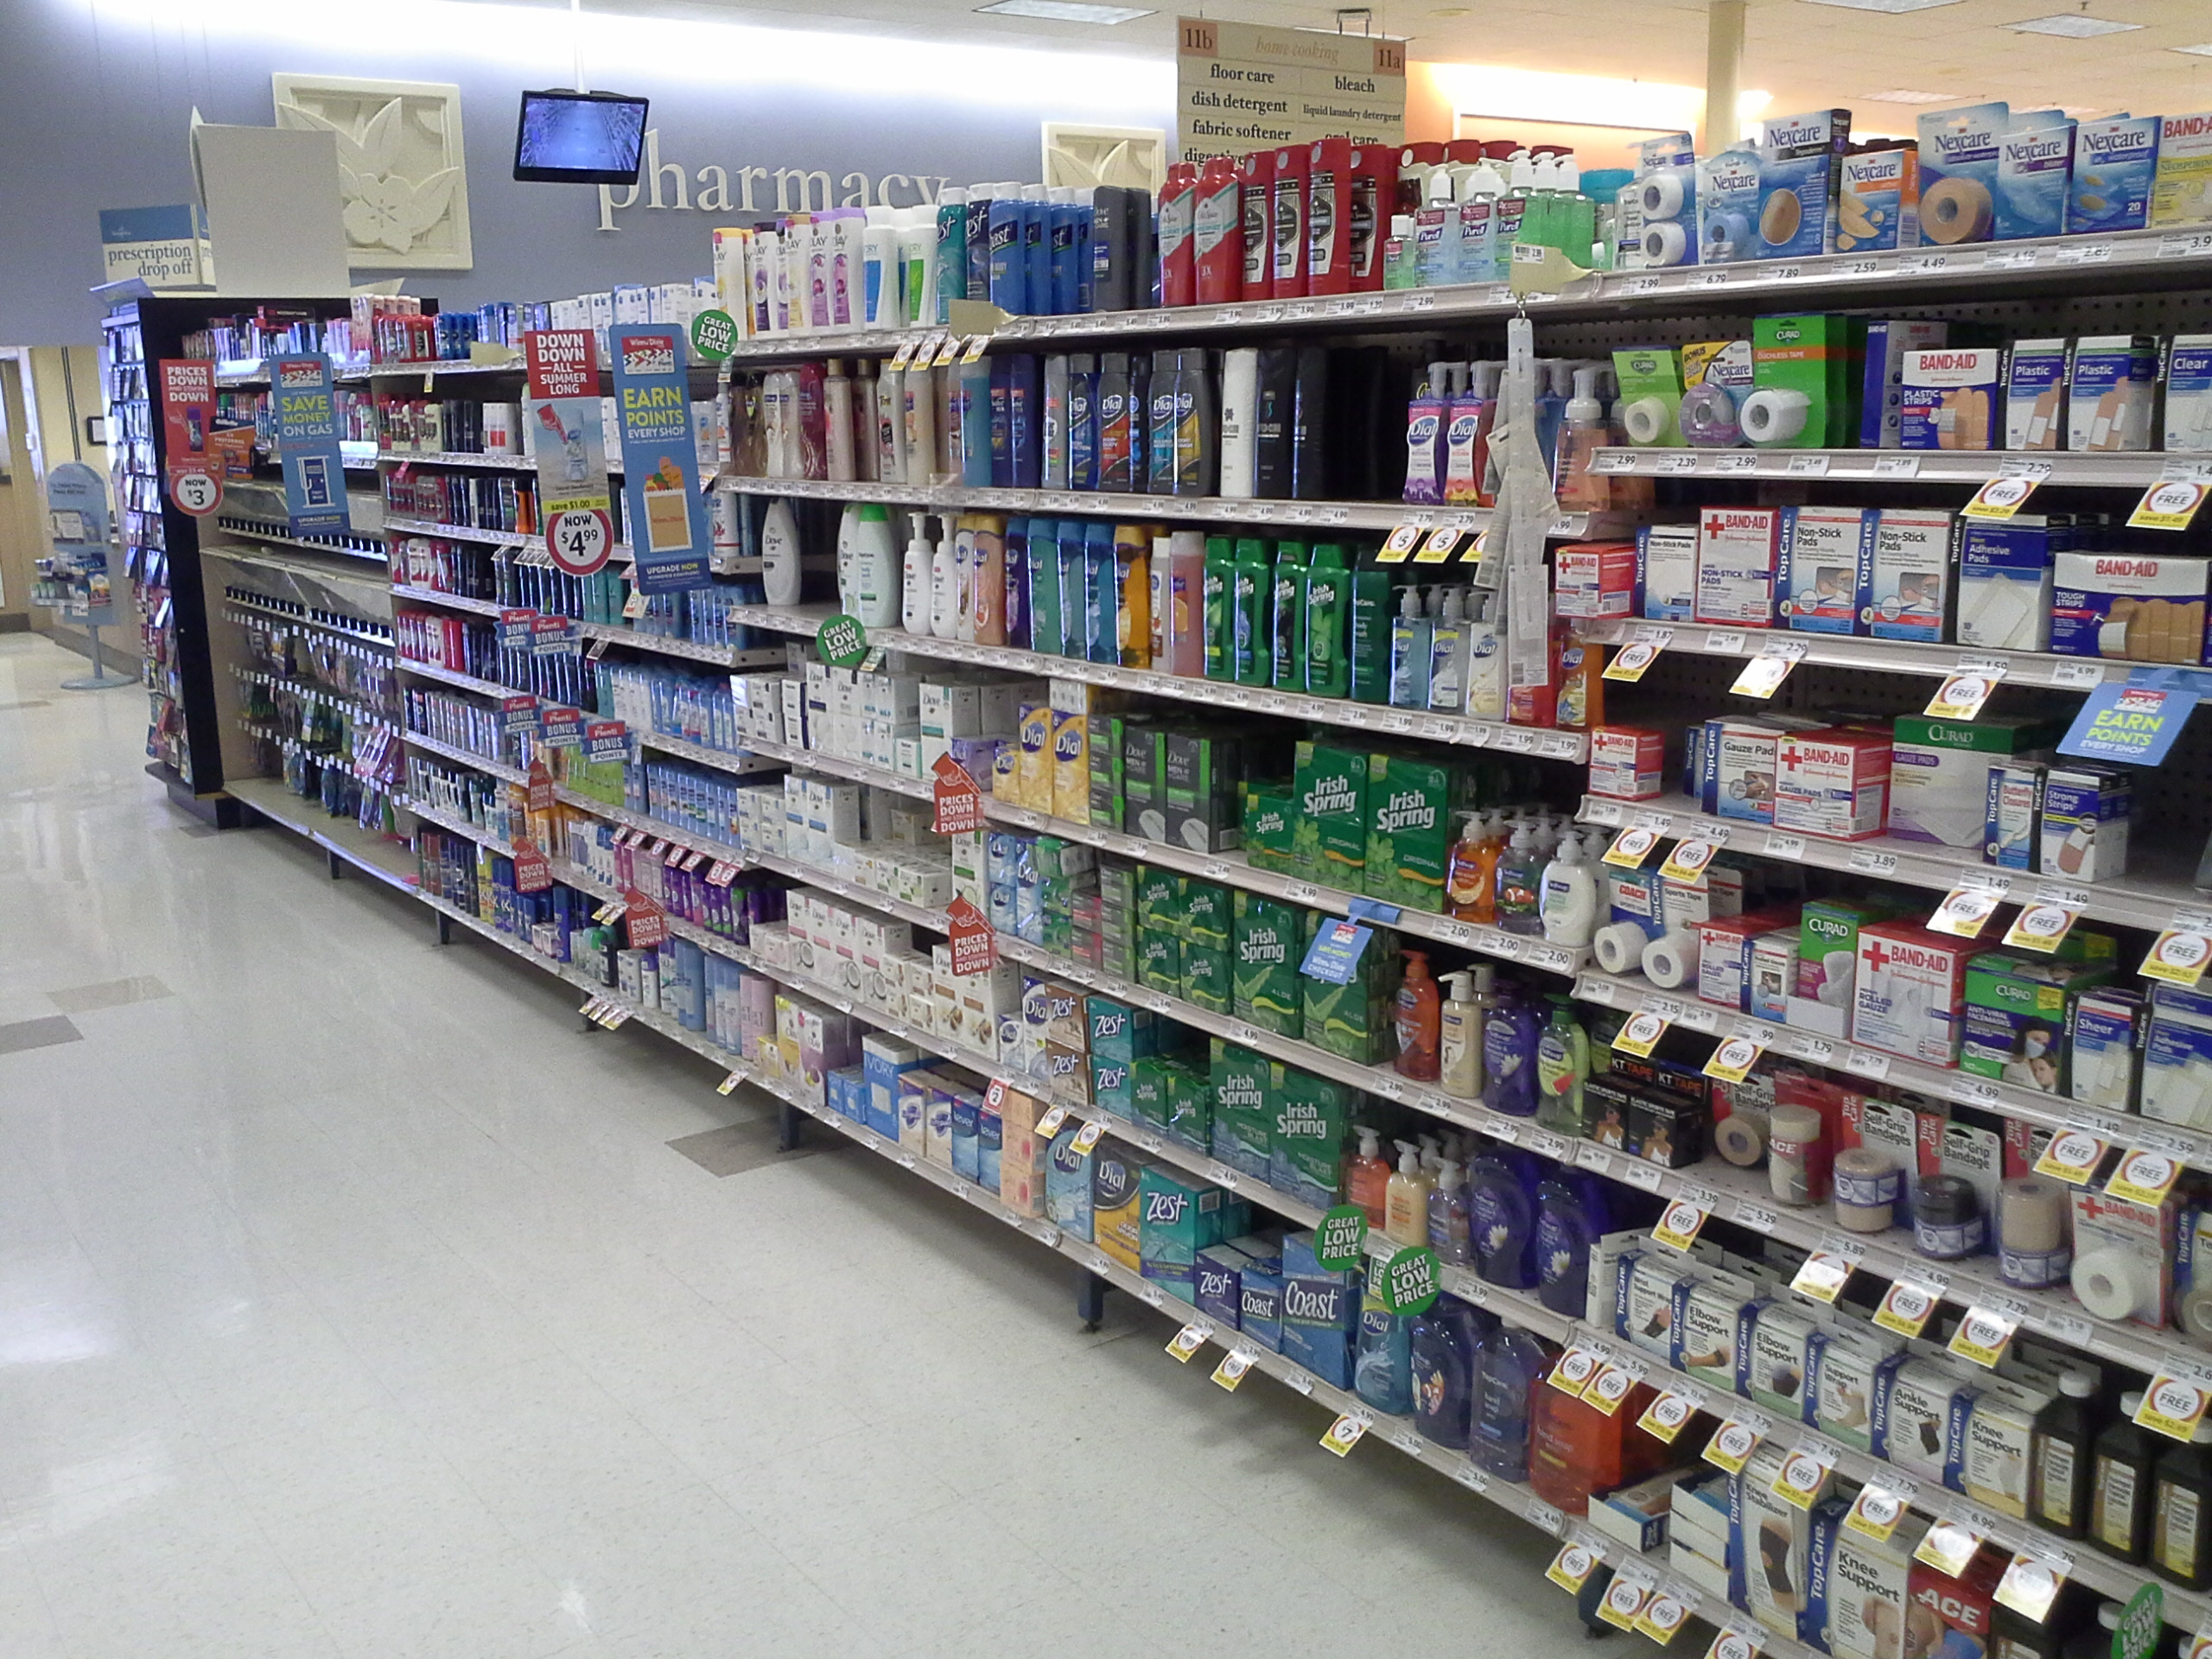Misplacement: (1853, 657, 1984, 868), (1639, 725, 1703, 824)
Out-of-stock: (1312, 321, 1393, 523)
